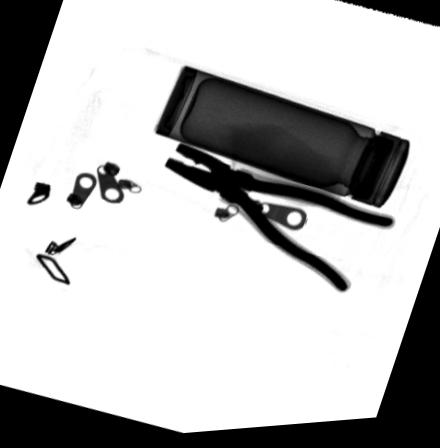Pliers: (163, 146, 398, 300)
